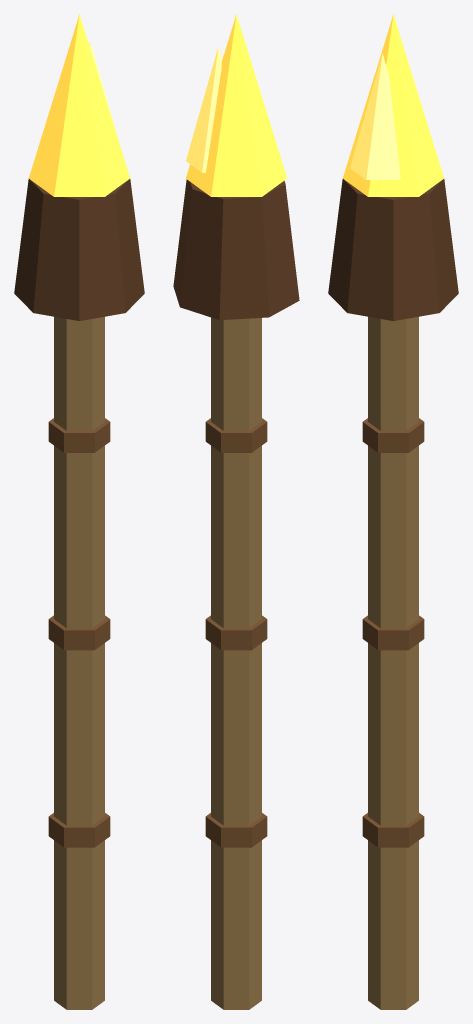
The model's file is tiki_torch.glb.
The picture shows the model from 3 angles, left to right: view 1: azimuth 90°, elevation 25°; view 2: azimuth 210°, elevation 25°; view 3: azimuth 270°, elevation 25°; orthographic projection.
Visible parts, largest first — view 1: body, fx_glow_flame; view 2: body, fx_glow_flame; view 3: body, fx_glow_flame.
Part boxes in pixels (x1,y1,x2,y2): body: (14, 179, 144, 1009); fx_glow_flame: (28, 14, 130, 196); body: (173, 179, 299, 1009); fx_glow_flame: (185, 14, 287, 196); body: (328, 179, 458, 1009); fx_glow_flame: (342, 14, 444, 196).
Size of the model in its own units: 0.36 by 3 by 0.36.
